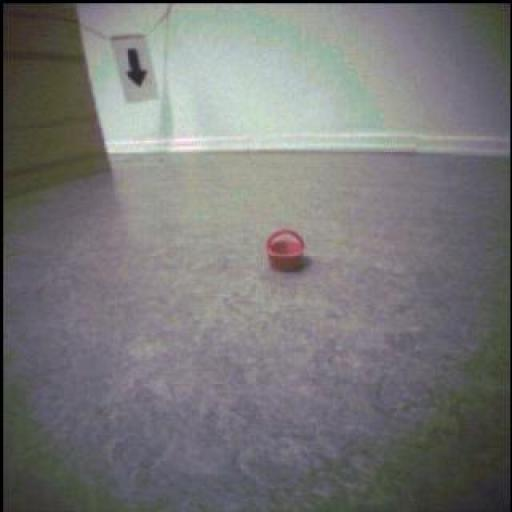Arrow: (128, 49, 149, 87)
Bucket: (265, 224, 308, 272)
